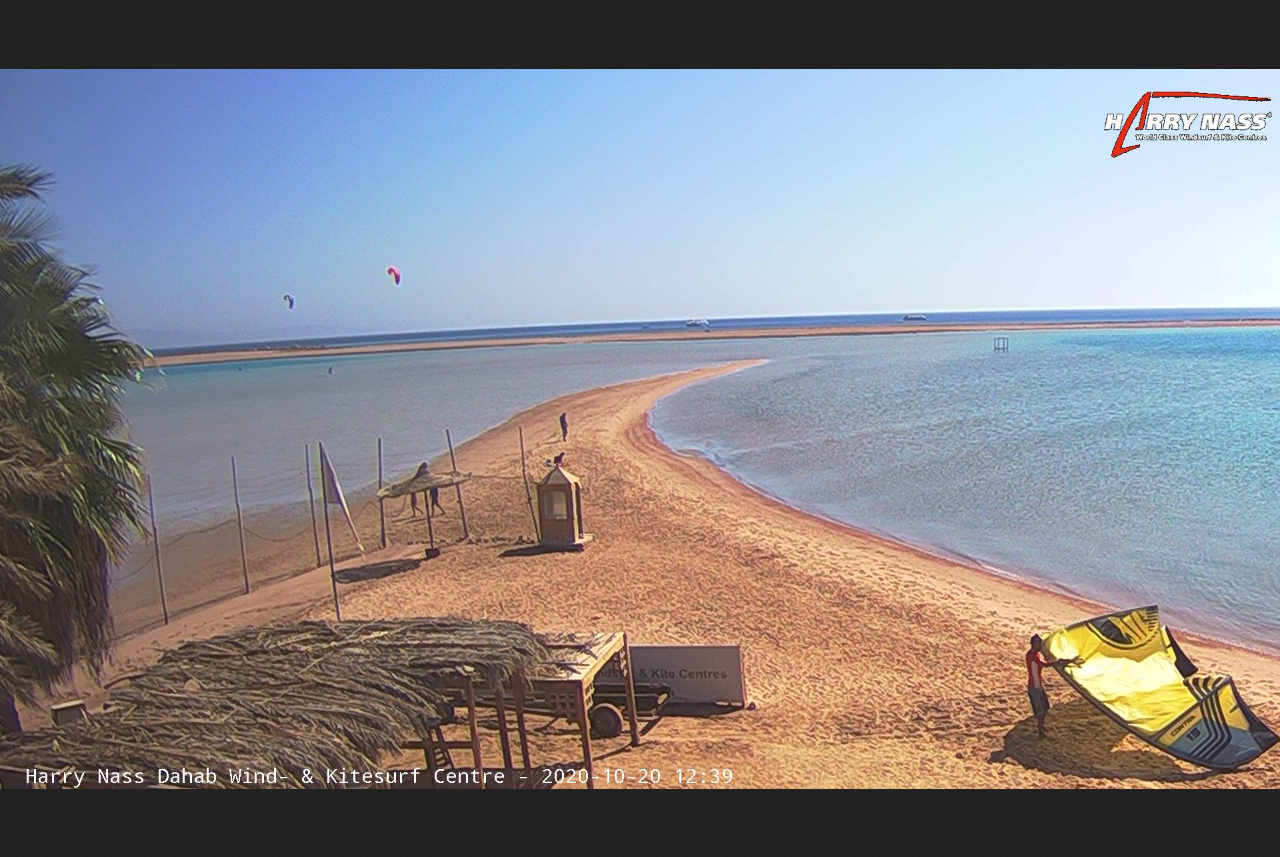no: (318, 446, 368, 561)
